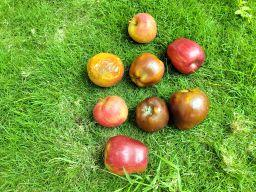apple: (160, 29, 210, 77), (101, 131, 151, 178), (80, 48, 129, 92), (169, 84, 213, 133), (126, 48, 170, 92), (130, 89, 172, 134), (88, 89, 131, 132), (122, 4, 163, 47)
